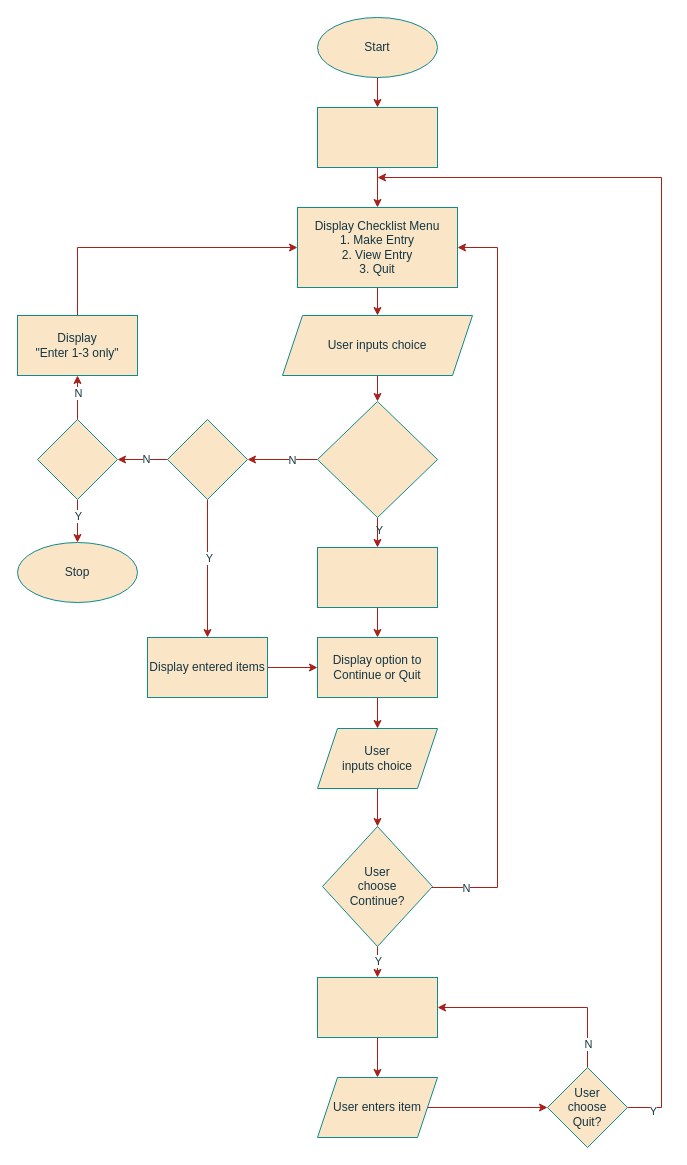
This 687x1165 diagram has some shape labels left out. Each missing label, with the centre of its shape:
Display "Enter item": (x=377, y=1007)
Display instructions for data entry: (x=377, y=577)
Display introductory message: (x=377, y=137)
Entry = 2?: (x=207, y=459)
Entry = 3?: (x=77, y=459)
Is Entry = 1?: (x=377, y=459)
